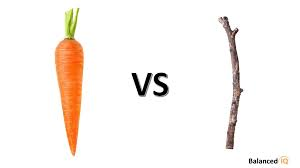carrot: (53, 32, 89, 160)
